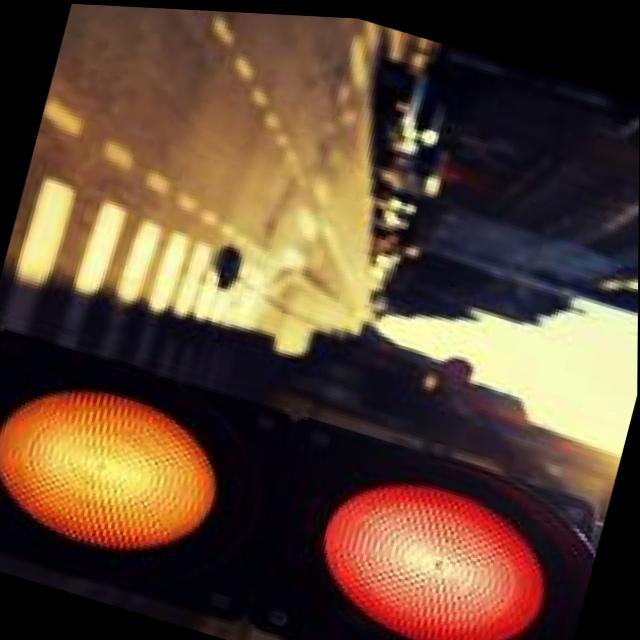red_light: (279, 426, 577, 640)
yellow_light: (0, 322, 259, 610)
